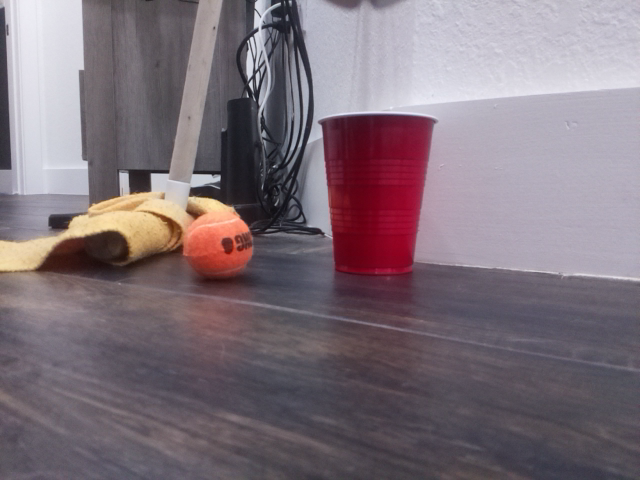orange-ball: (181, 209, 255, 281)
